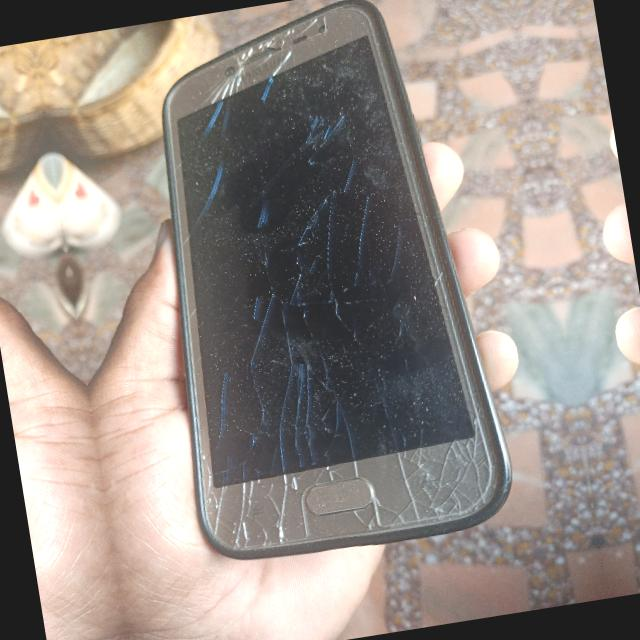phone_screen: (178, 36, 474, 487)
